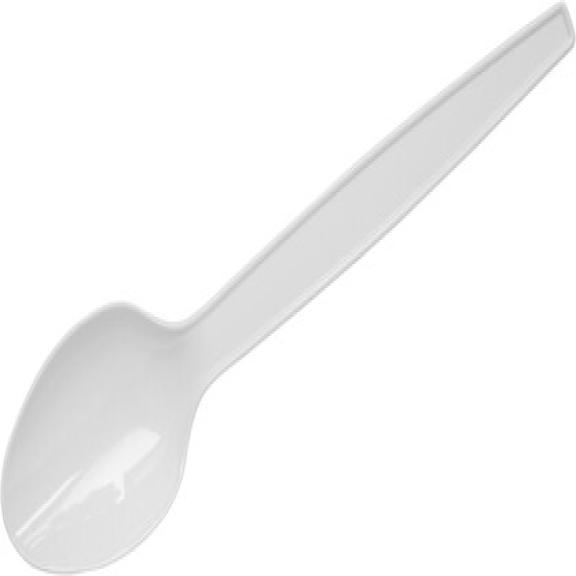Plastik: (2, 3, 574, 573)
